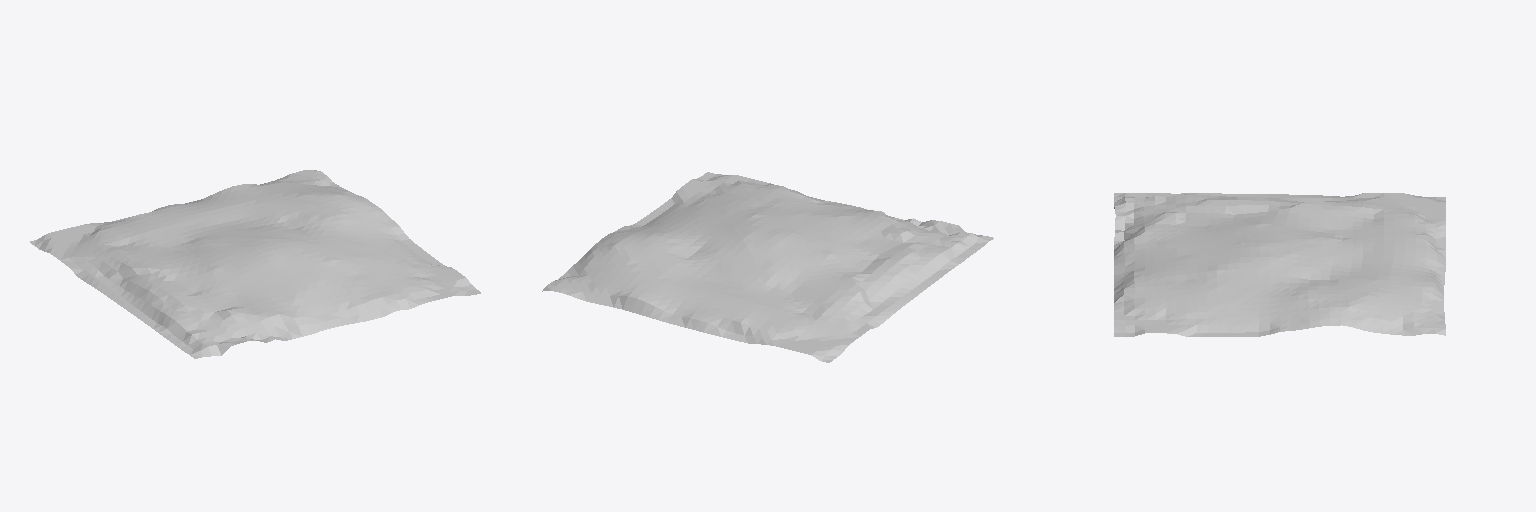
Rendered from terrain.obj.
The picture shows the model from 3 angles: view 1: azimuth 30°, elevation 25°; view 2: azimuth 150°, elevation 25°; view 3: azimuth 270°, elevation 25°; orthographic projection.
Parts seen in each view (by area): view 1: Plane; view 2: Plane; view 3: Plane.
Boxes of the visible parts, x1=… form: Plane: x1=30, y1=170, x2=480, y2=358; Plane: x1=542, y1=172, x2=993, y2=362; Plane: x1=1114, y1=193, x2=1445, y2=336.
Bounding box in the file's own units: 3.87 × 0.2939 × 3.86.